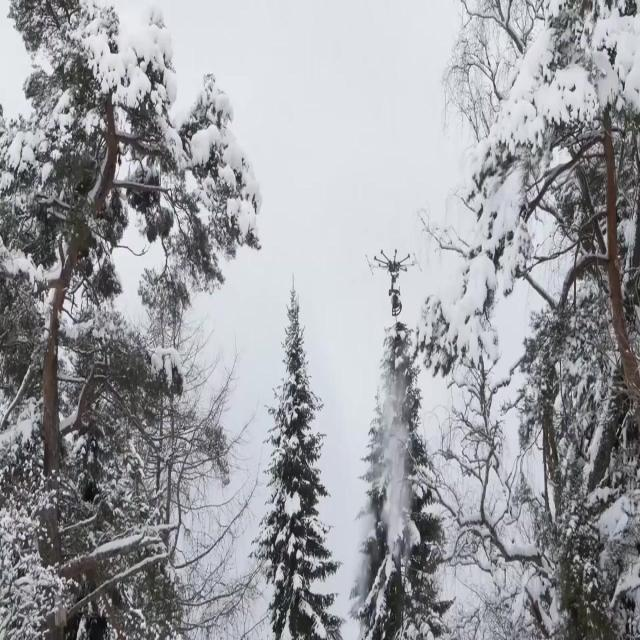drone: (373, 249, 416, 315)
